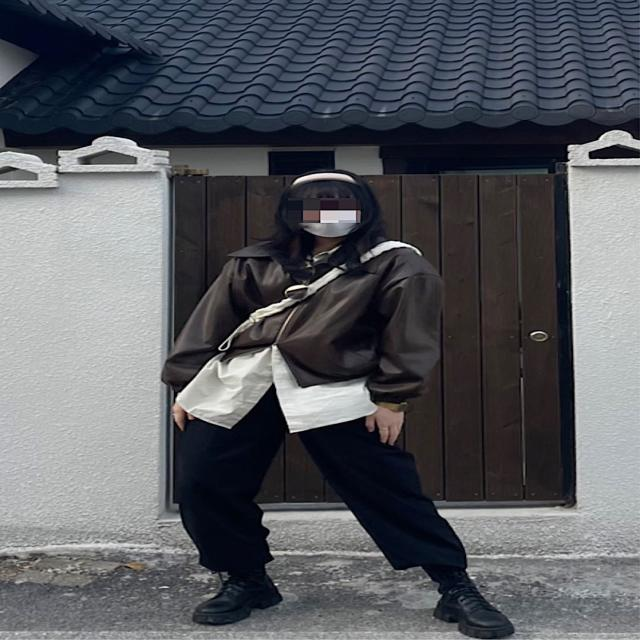jacket: (162, 239, 440, 407)
slacks: (172, 399, 461, 573)
